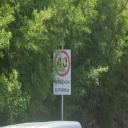speed_limit_40: (54, 50, 70, 76)
